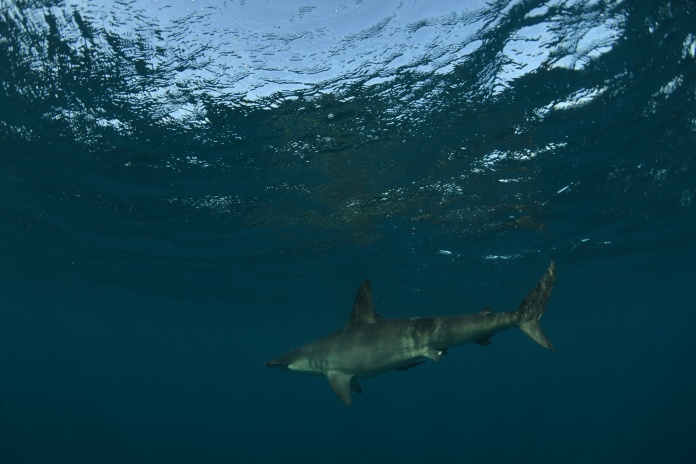Hammer: (224, 230, 572, 417)
